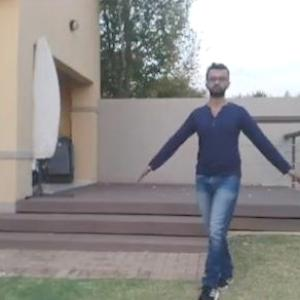land: (149, 72, 288, 283)
